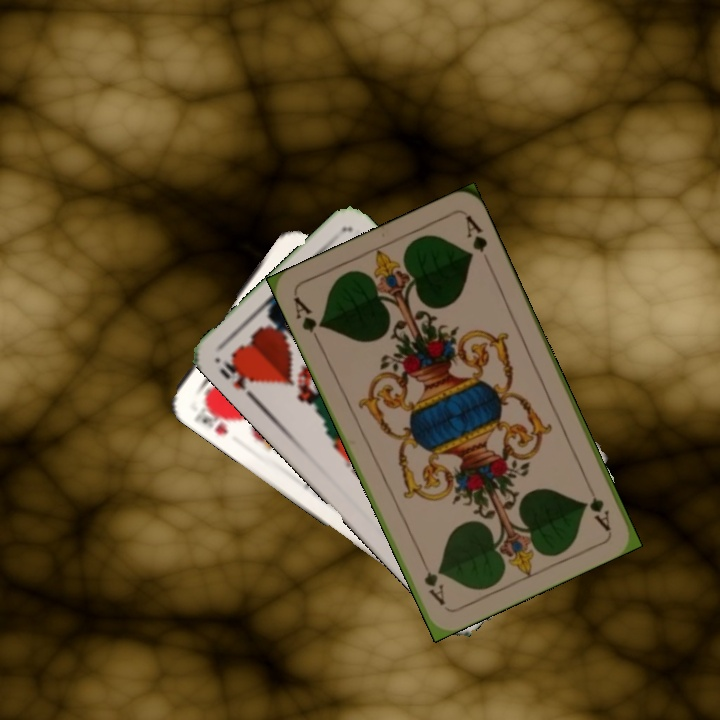GA: (289, 293, 326, 347), (581, 477, 613, 533)
HK: (197, 396, 238, 438)
HO: (213, 351, 260, 403)
